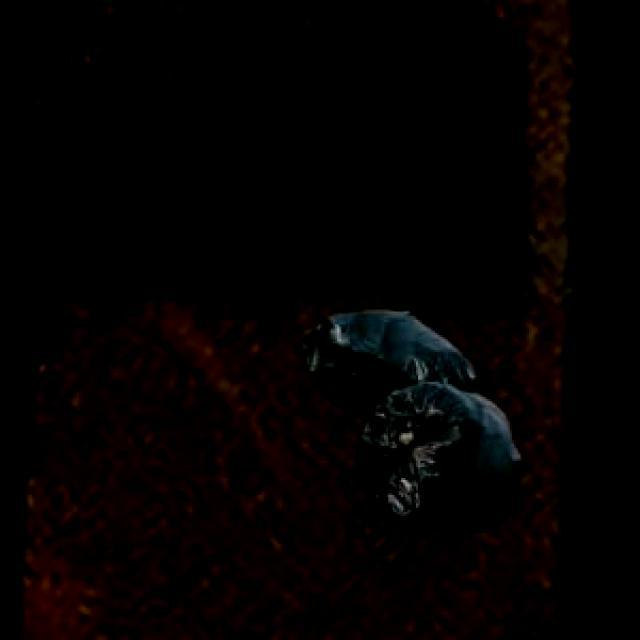Trashbag: (356, 380, 534, 525), (299, 301, 481, 400)
